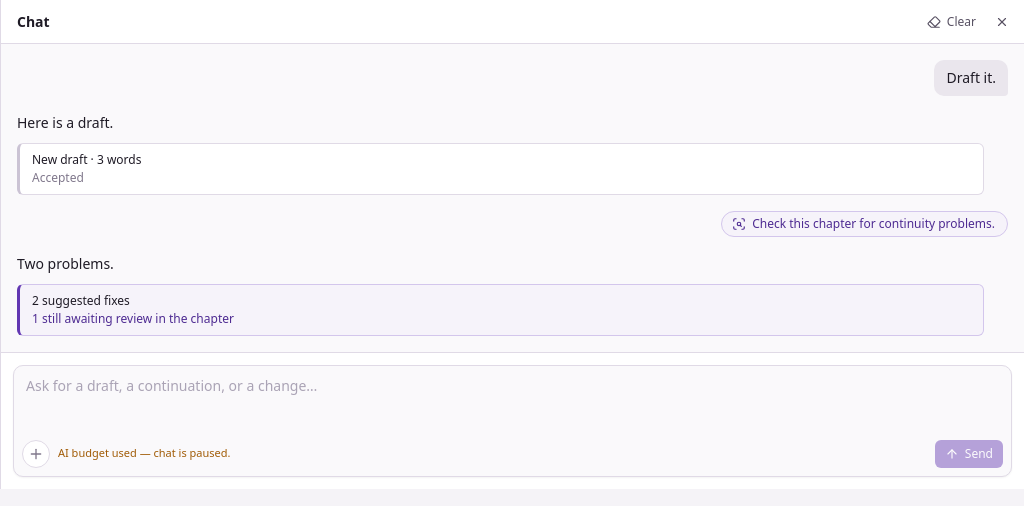
it: ChatPane › says why no pass can run instead of offering one
The image size is (1024, 506).
What coordinates should you click on to do the following:
click the button named "run a specialist"
I would click on:
 (36, 454)
Its box is [22, 440, 50, 468].
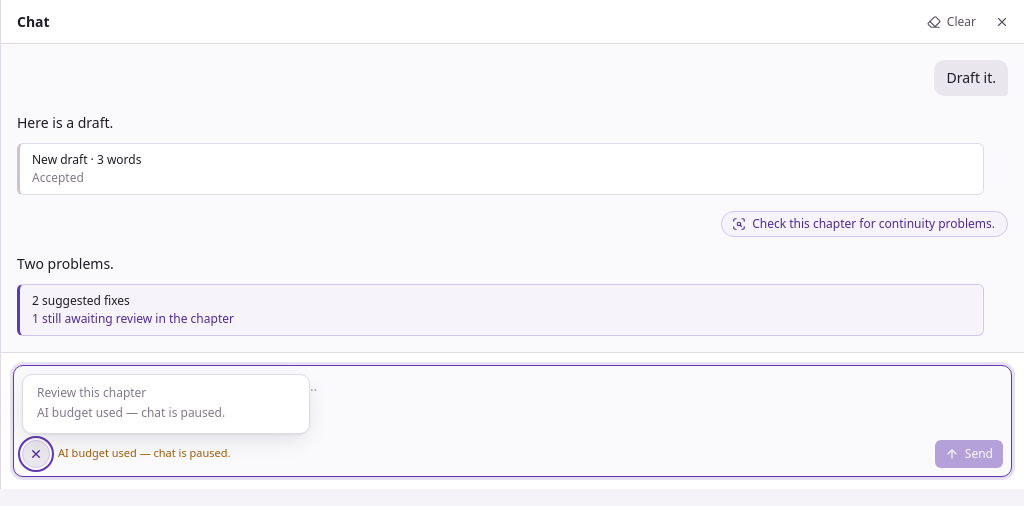
Now the menu shows "AI budget used", box [37, 404, 225, 420]
